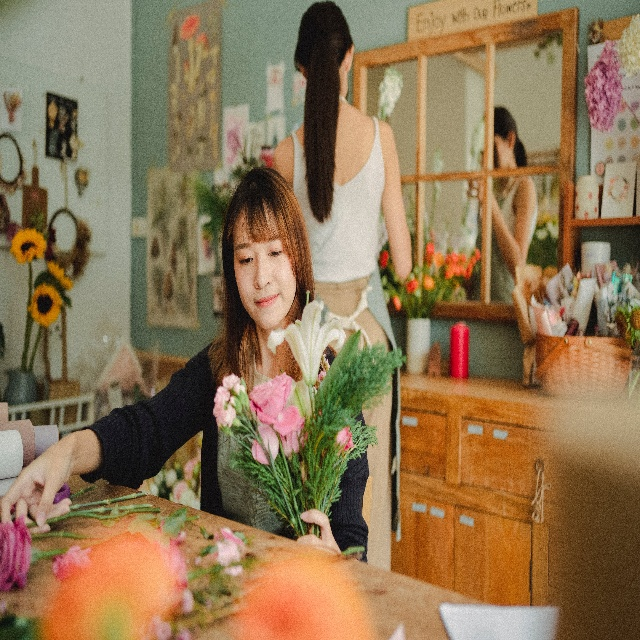Sin_guantes: (2, 434, 72, 531)
